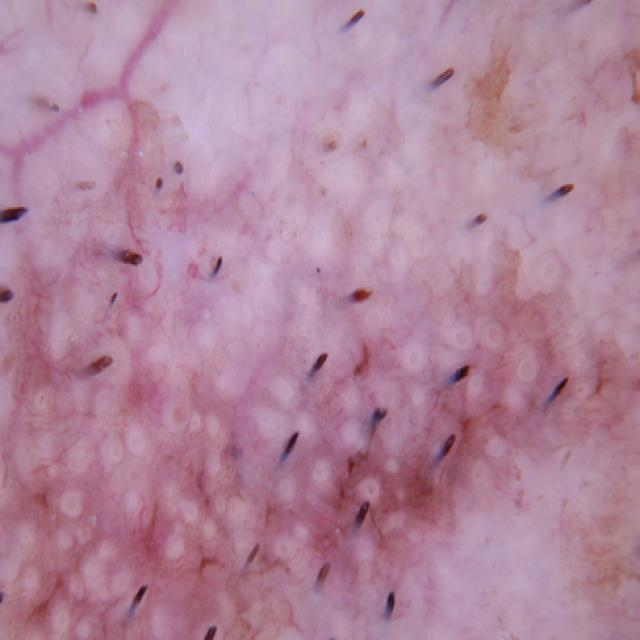Carcinoma: (0, 136, 640, 640)
